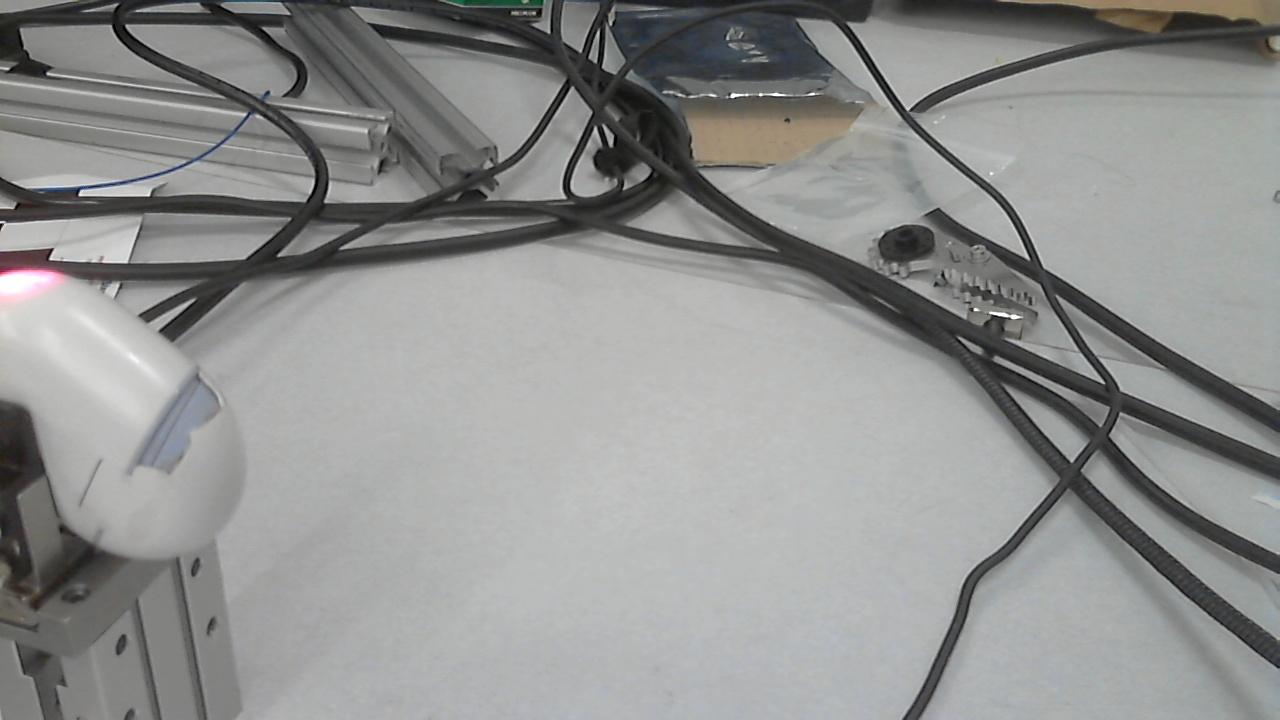Object wireless earbud charging case - Material plastic - Pdfname qzJIPQkli2jB: (0, 247, 70, 319)
